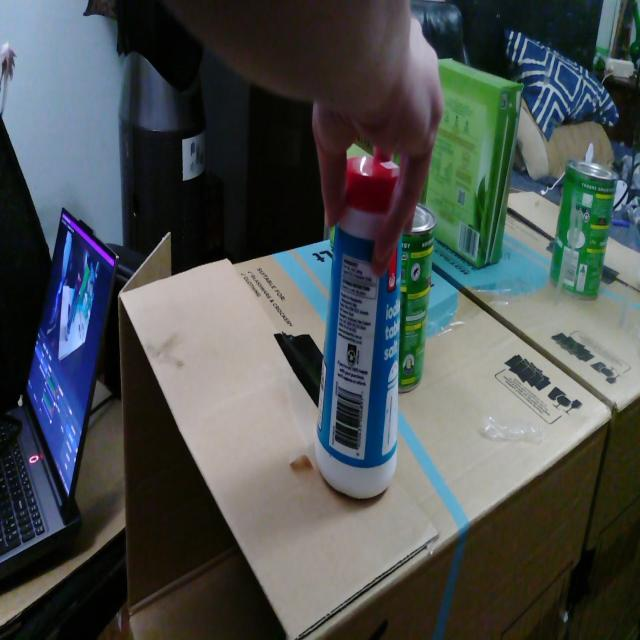nestle_milo_tin: (399, 203, 437, 392)
twinings_greentea_box: (347, 137, 374, 158), (418, 175, 428, 205), (330, 225, 335, 247), (394, 154, 400, 165)
woolworths_salt_bottle: (315, 158, 402, 498)
